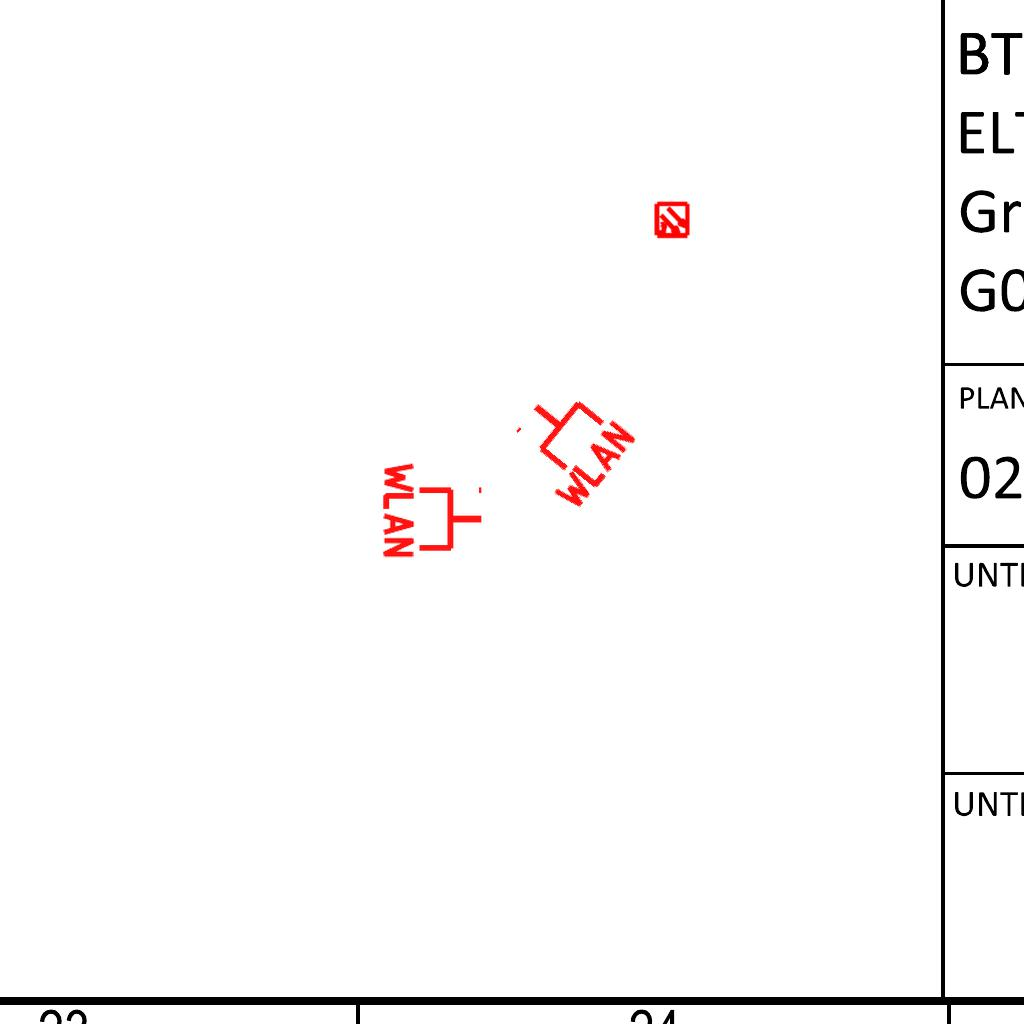OT_Multisensormelder_(Kombination_RMO_WMD): (644, 193, 700, 249)
WLAN: (493, 370, 642, 518), (381, 458, 486, 562)
